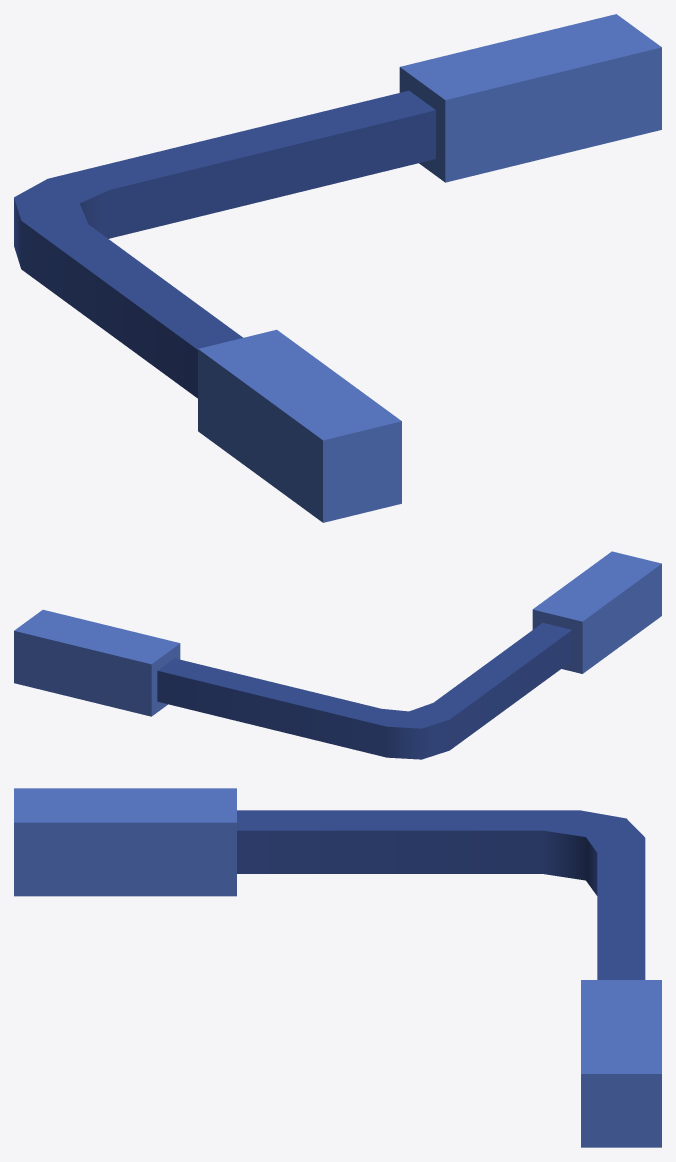
The model's file is Cable_D_2_2.glb.
3 views of the same model, one above another, from view 1: azimuth 30°, elevation 25°; view 2: azimuth 150°, elevation 25°; view 3: azimuth 270°, elevation 25° (orthographic). The views are drawn at different scales.
Visible parts, largest first — view 1: Cable_D_2_2; view 2: Cable_D_2_2; view 3: Cable_D_2_2.
Boxes of the visible parts, x1=… form: Cable_D_2_2: x1=14, y1=14, x2=661, y2=522; Cable_D_2_2: x1=14, y1=551, x2=661, y2=759; Cable_D_2_2: x1=14, y1=788, x2=661, y2=1147.
Size of the model in its own units: 0.8188 by 0.0983 by 0.785.
1 material, 1 textured.
